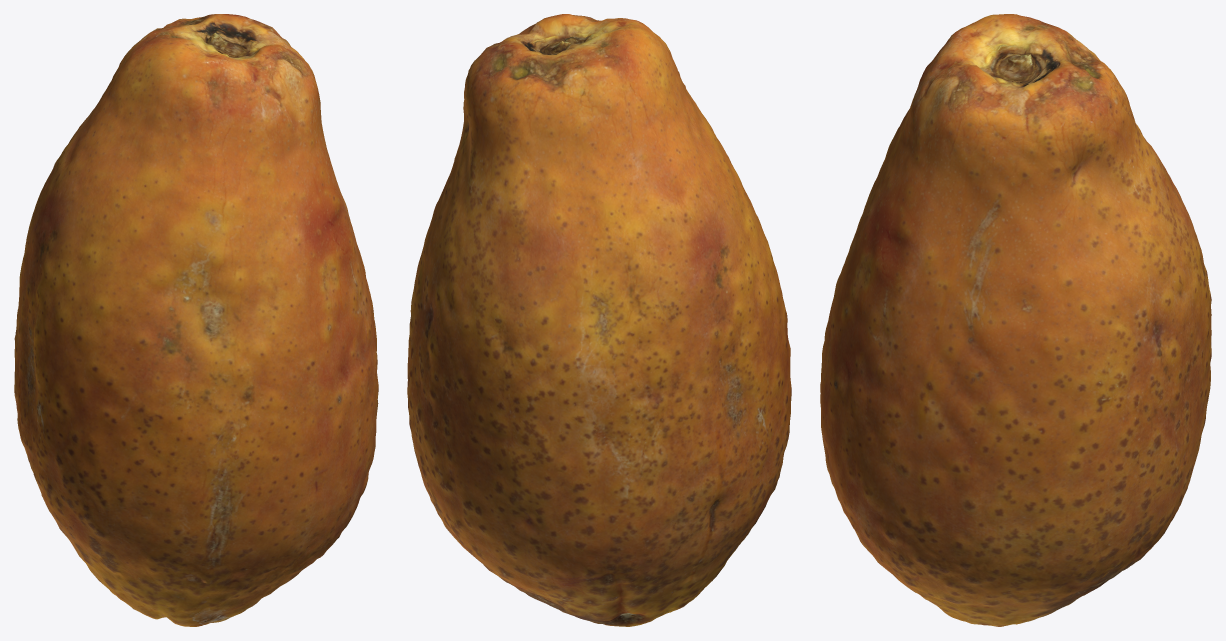
The model's file is papaya.glb.
3 views of the same model, side by side, from view 1: azimuth 30°, elevation 25°; view 2: azimuth 150°, elevation 25°; view 3: azimuth 270°, elevation 25° (orthographic). The views are drawn at different scales.
Parts seen in each view (by area): view 1: papaja; view 2: papaja; view 3: papaja.
Part boxes in pixels (x1=…): papaja: x1=14, y1=14, x2=378, y2=626; papaja: x1=407, y1=14, x2=791, y2=626; papaja: x1=820, y1=14, x2=1211, y2=626.
Size of the model in its own units: 1.9 by 3.3 by 1.97.
Materials: 1 (1 with a texture image).
